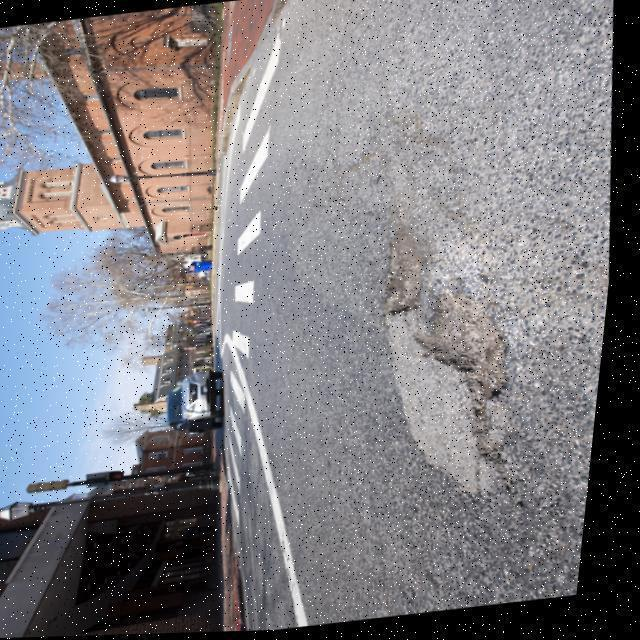Pothole: (410, 288, 515, 472), (384, 231, 424, 316)
